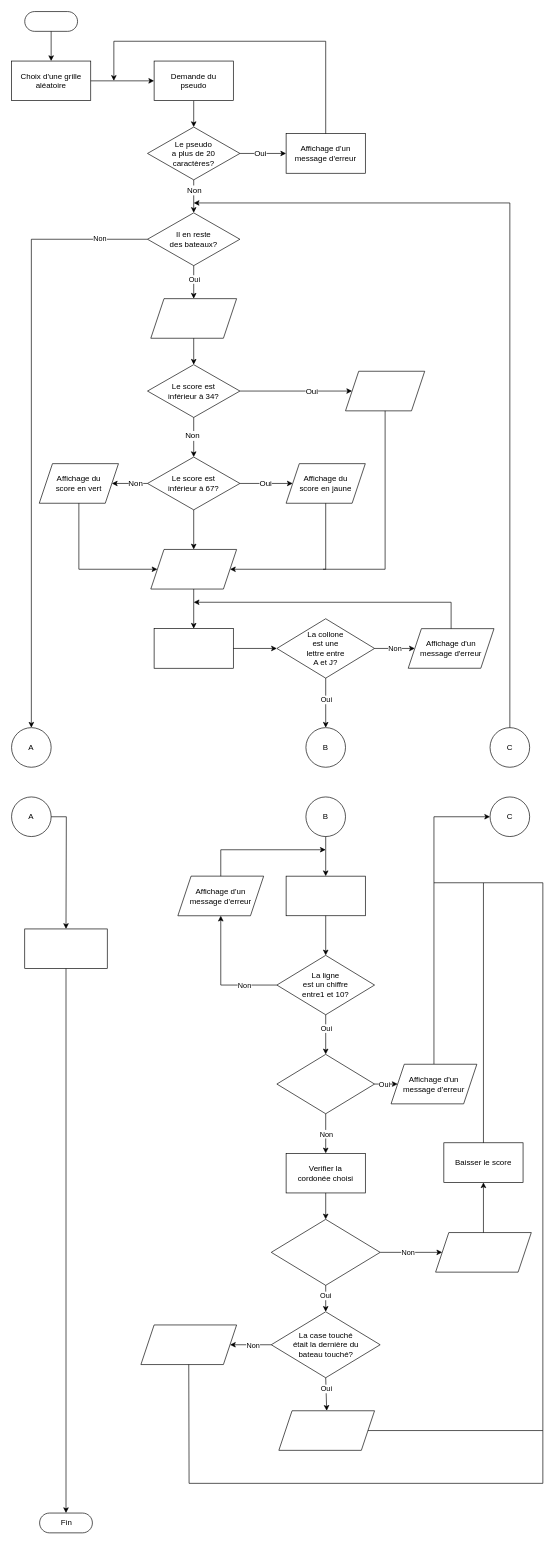
Image size: 555x1544. Some labels were removed from this diagram. Here are the shapes that lost their labels. From the top down, the centre of each, then its label:
(51,21): Début
(193,318): Affichage du nombre de bateaux restants
(385,391): Affichage du score en rouge
(193,569): Affichage de la grille
(193,648): Demande d'une collone
(325,895): Demande d'une ligne
(65,948): Sauvegarder le score dans le fichier des scores
(325,1084): La coordonée avait déjà été choisi?
(325,1252): Dans la cordonée choisi, y'a-t-il un bateau?
(483,1252): Affichage d'un cercle bleu dans la cordonée choisi
(188,1344): Affichage d'une croix rouge dans la cordonée choisi
(326,1430): Affichage de symboles "#" rouges danstoutes les cases du bateau touché
